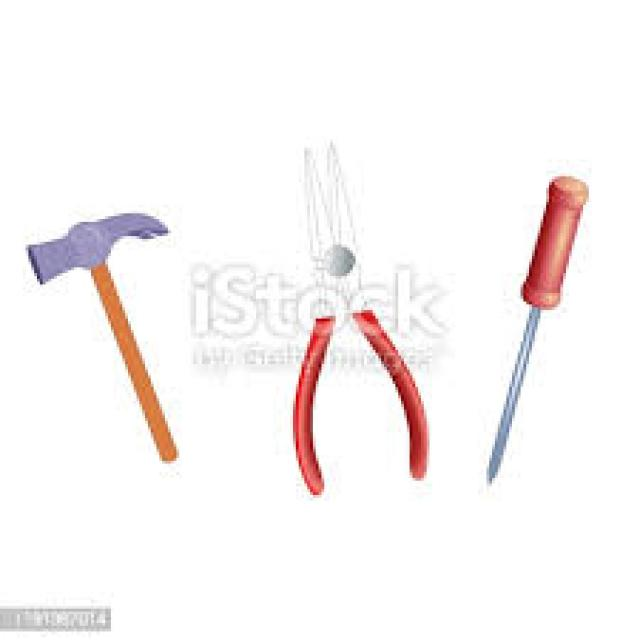screw driver: (458, 160, 599, 500)
